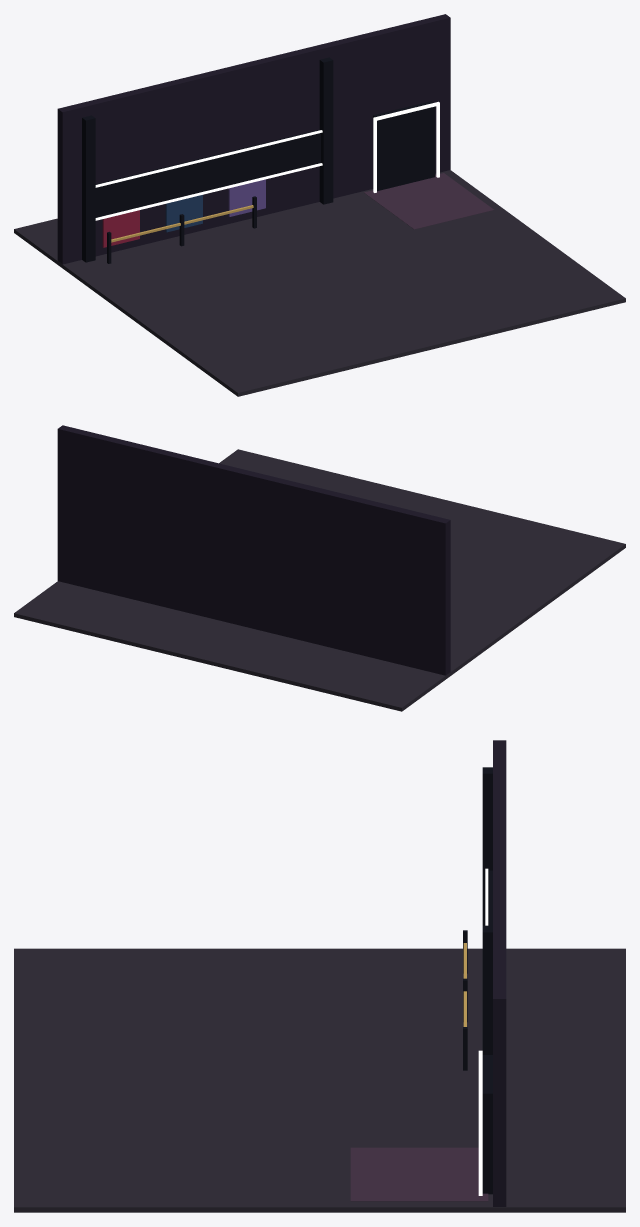
Rendered from room.glb.
3 views of the same model, one above another, from view 1: azimuth 30°, elevation 25°; view 2: azimuth 150°, elevation 25°; view 3: azimuth 270°, elevation 25° (orthographic). The views are drawn at different scales.
Parts seen in each view (by area): view 1: pavementGeometry, frontageGeometry, club-signGeometry, neon-doorwayGeometry, light-spillGeometry, event-postersGeometry, queue-barriersGeometry; view 2: frontageGeometry, pavementGeometry; view 3: pavementGeometry, frontageGeometry, light-spillGeometry, neon-doorwayGeometry, queue-barriersGeometry.
Part boxes in pixels (box(x1,y1,x2,y2)): pavementGeometry: box(14, 170, 625, 396); frontageGeometry: box(57, 14, 450, 264); club-signGeometry: box(95, 129, 322, 220); neon-doorwayGeometry: box(373, 101, 439, 192); light-spillGeometry: box(364, 173, 493, 229); event-postersGeometry: box(102, 179, 265, 247); queue-barriersGeometry: box(107, 196, 256, 263); frontageGeometry: box(57, 425, 450, 675); pavementGeometry: box(14, 449, 625, 711); pavementGeometry: box(14, 948, 625, 1212); frontageGeometry: box(482, 740, 506, 1206); light-spillGeometry: box(350, 1147, 488, 1201); neon-doorwayGeometry: box(478, 1050, 492, 1195); queue-barriersGeometry: box(463, 930, 467, 1070).
Bounding box in the file's own units: 16 × 6.16 × 16.
